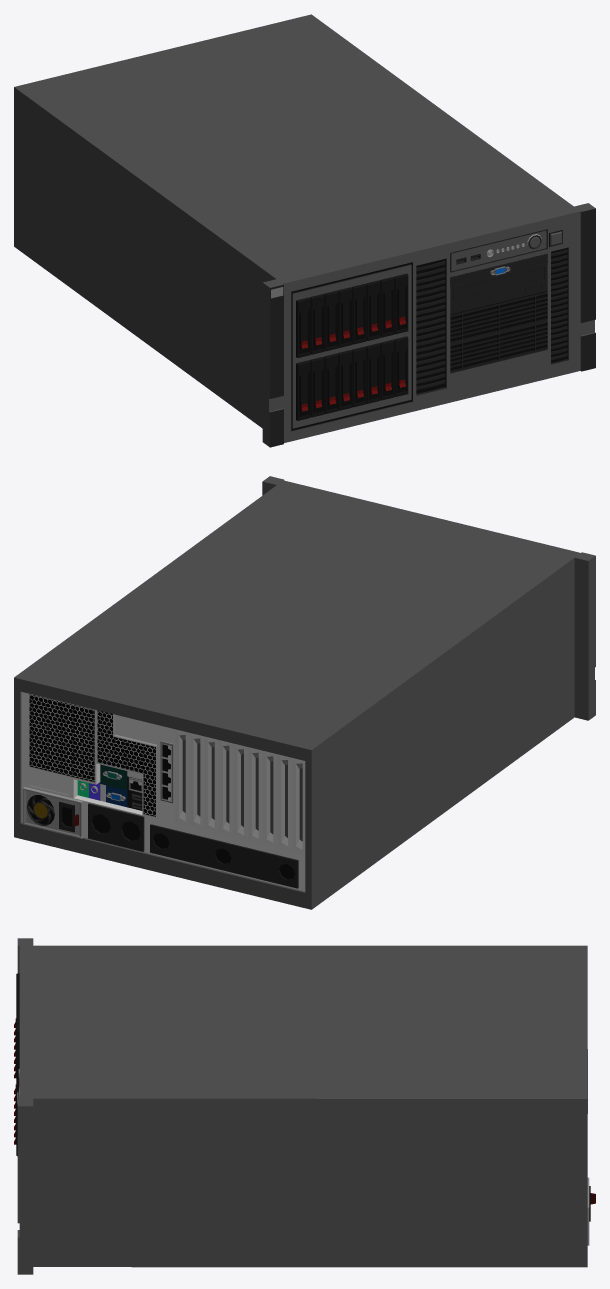
3 renders of one model, top to bottom at view 1: azimuth 30°, elevation 25°; view 2: azimuth 150°, elevation 25°; view 3: azimuth 270°, elevation 25°, orthographic. The views are drawn at different scales.
Visible parts, largest first — view 1: HPE_ML370; view 2: HPE_ML370; view 3: HPE_ML370.
Part boxes in pixels (box(x1,y1,x2,y2)): HPE_ML370: box(14, 14, 595, 447); HPE_ML370: box(14, 476, 595, 909); HPE_ML370: box(14, 938, 595, 1274).
Bounding box in the file's own units: 475 × 223 × 697.
24 materials, 1 textured.
